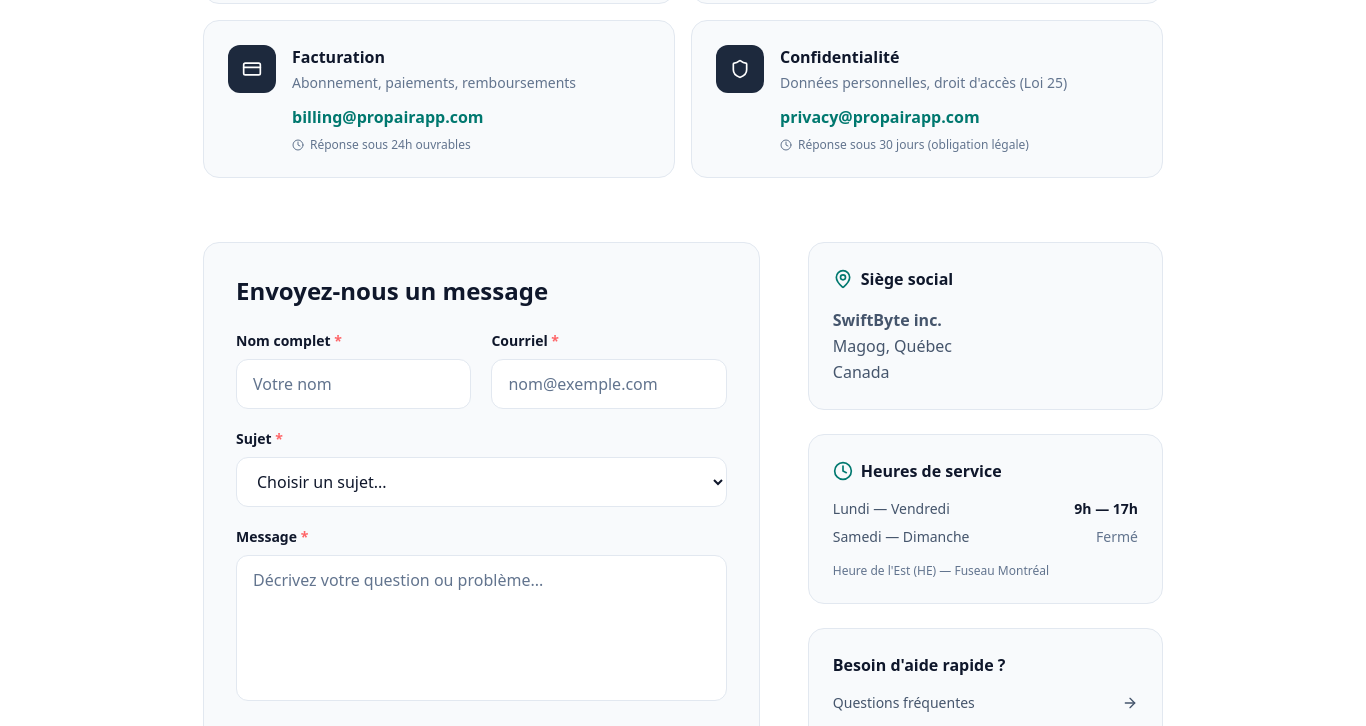
Contact › form submission shows success state
The width and height of the screenshot is (1366, 726).
(page scrolled)
Type "Test User" into the field labelled "Nom complet *" at {"x": 354, "y": 384}, box [236,359,471,409]
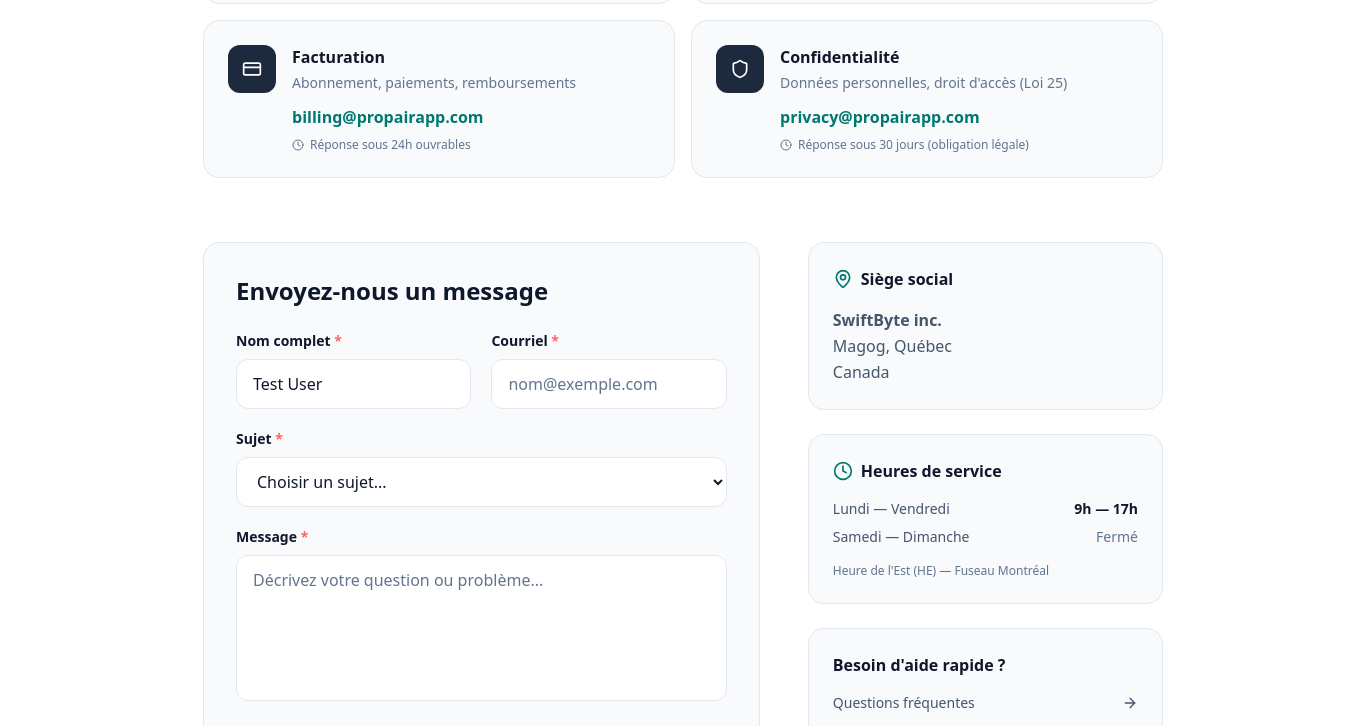
Type "test@test.com" into the field labelled "Courriel *" at {"x": 609, "y": 384}, box [491,359,727,409]
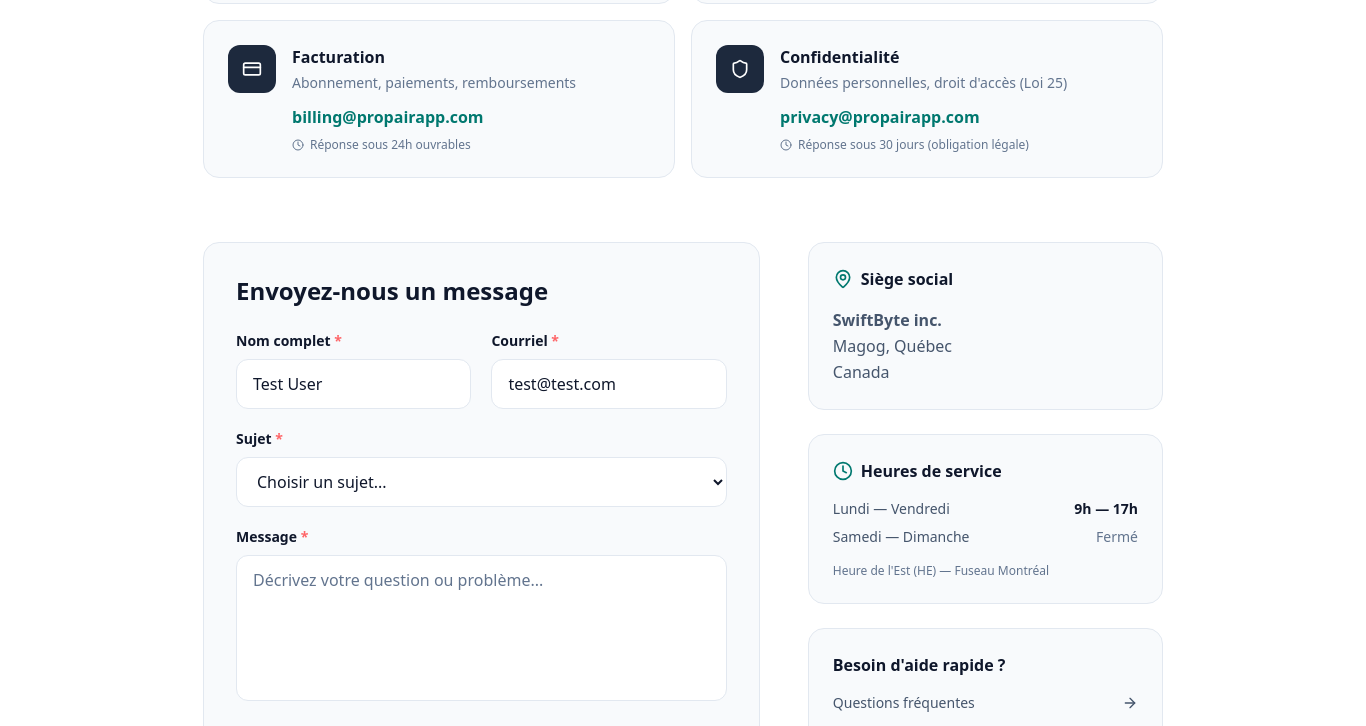
Select "Question générale" in the dropdown labelled "Sujet *" at {"x": 481, "y": 482}, box [236,457,727,507]
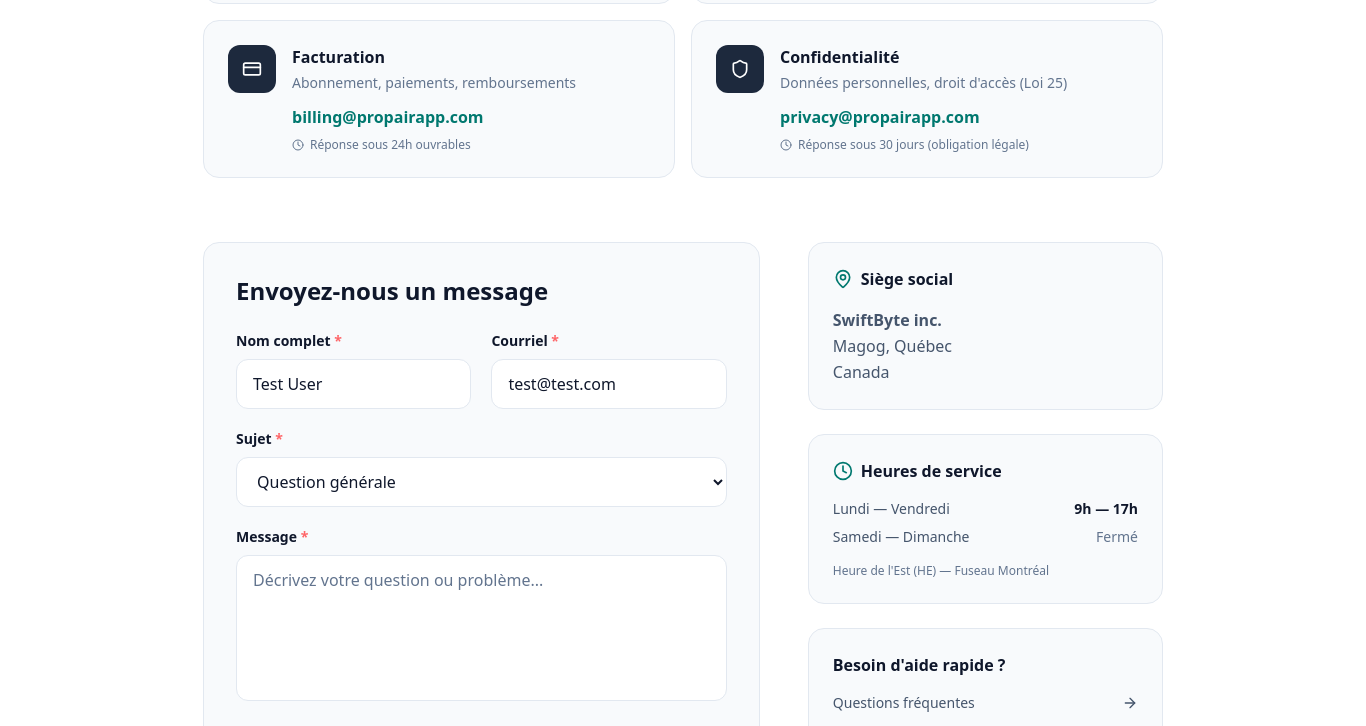
Type "Hello" into the text box labelled "Message *" at {"x": 481, "y": 628}, box [236,555,727,701]
(page scrolled)
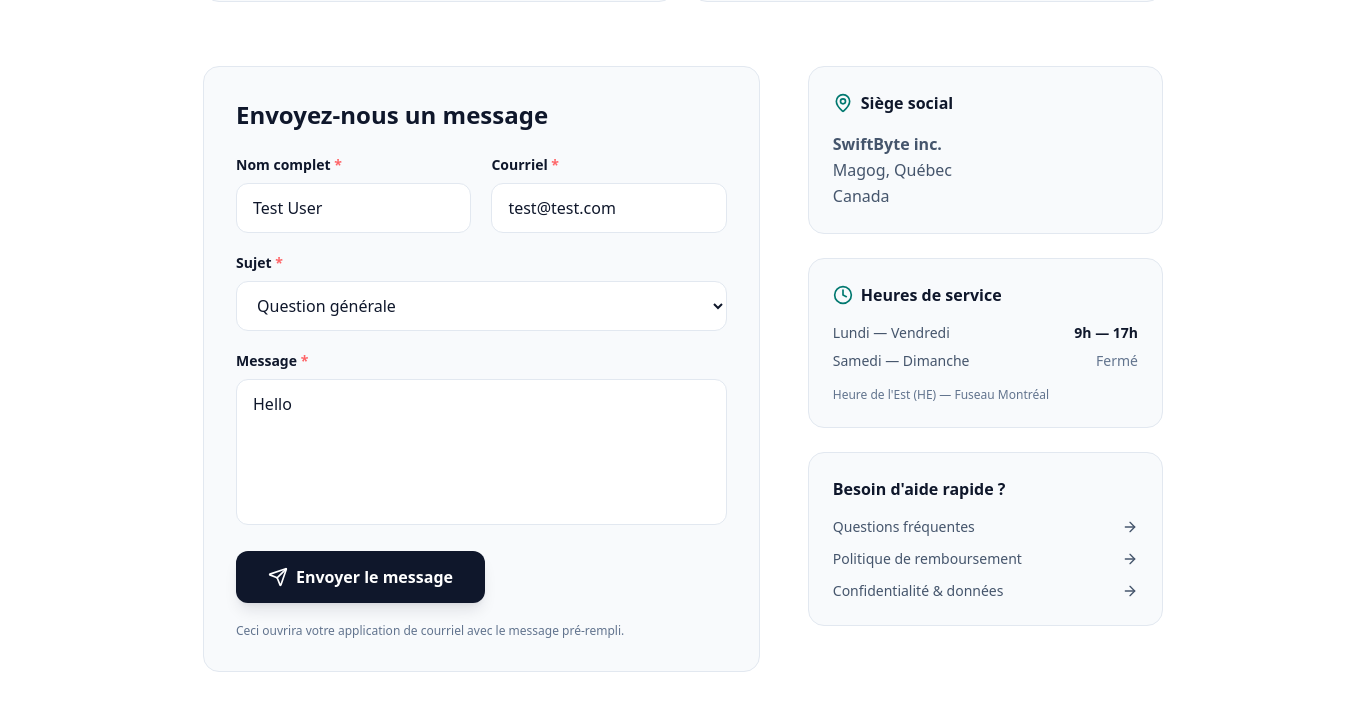
Submit the text "Envoyer le message", box [236,155,727,639]
Wait 600 ms
(page scrolled)
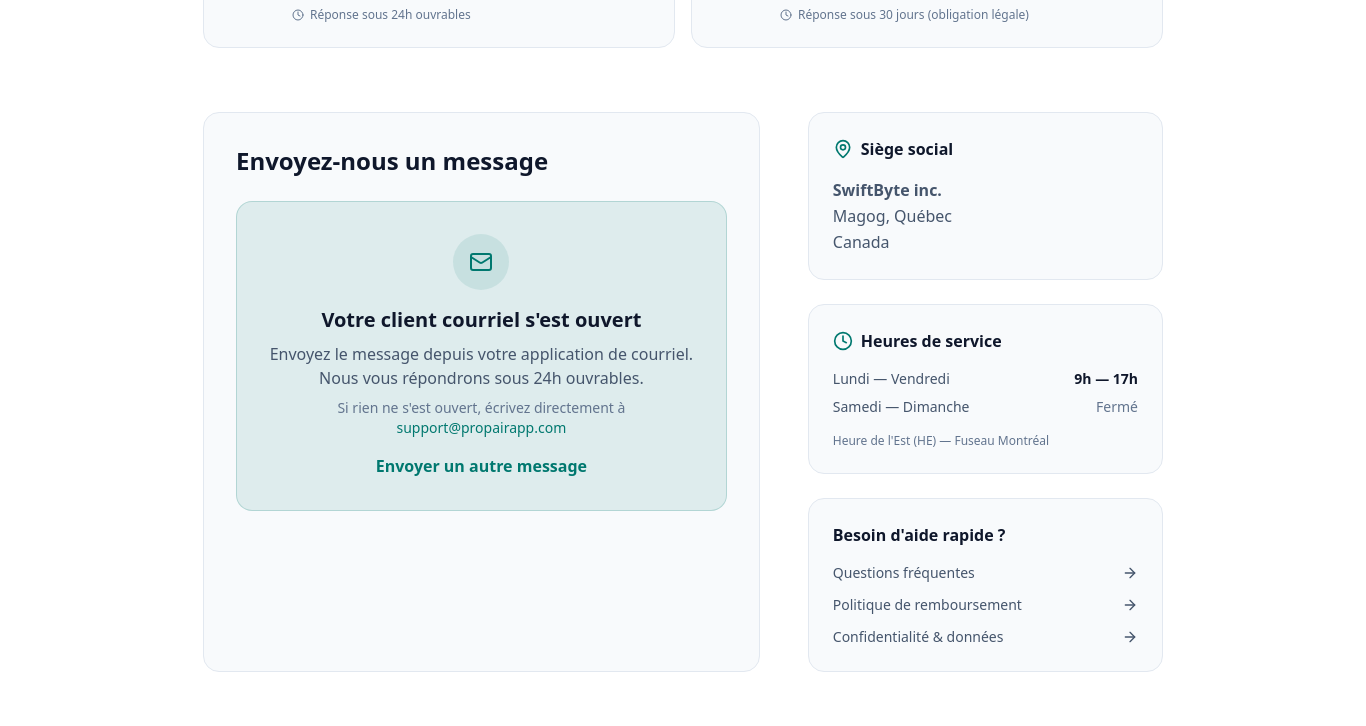
Result: the heading "Votre client courriel s'est ouvert" is shown at [321,306,641,333]
